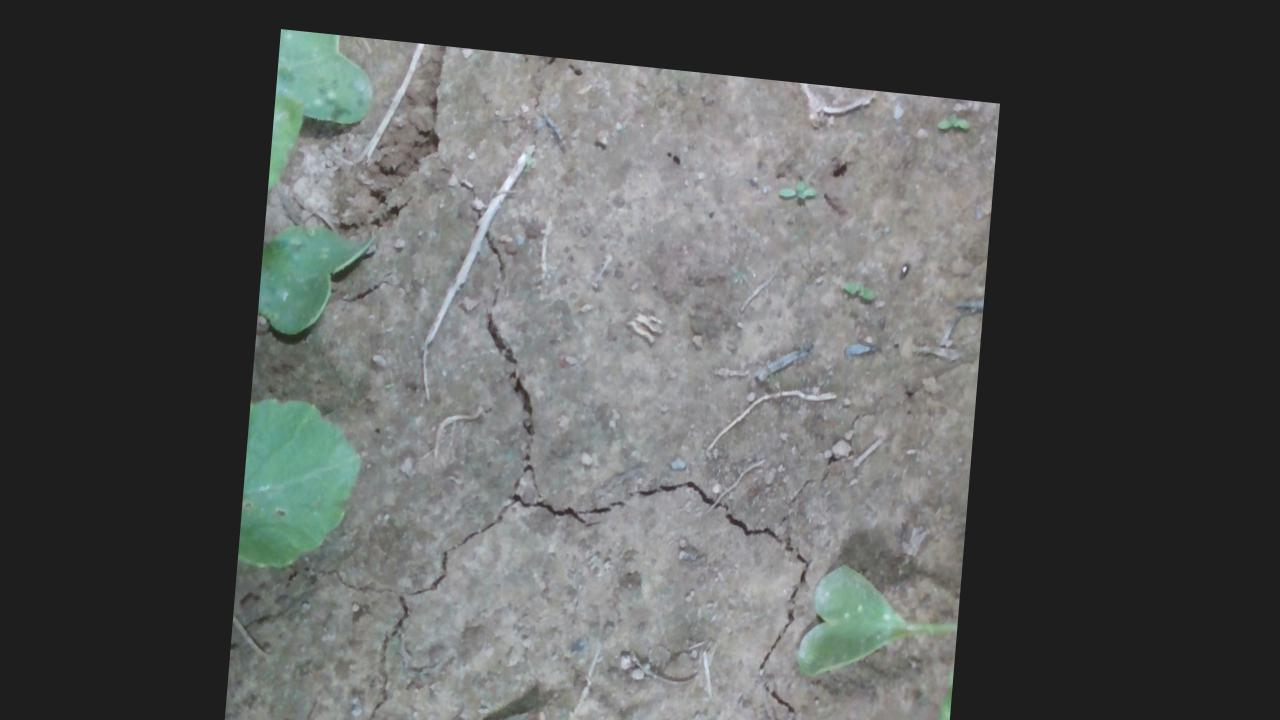weed: (778, 158, 822, 183), (938, 87, 974, 111), (845, 259, 882, 280)
